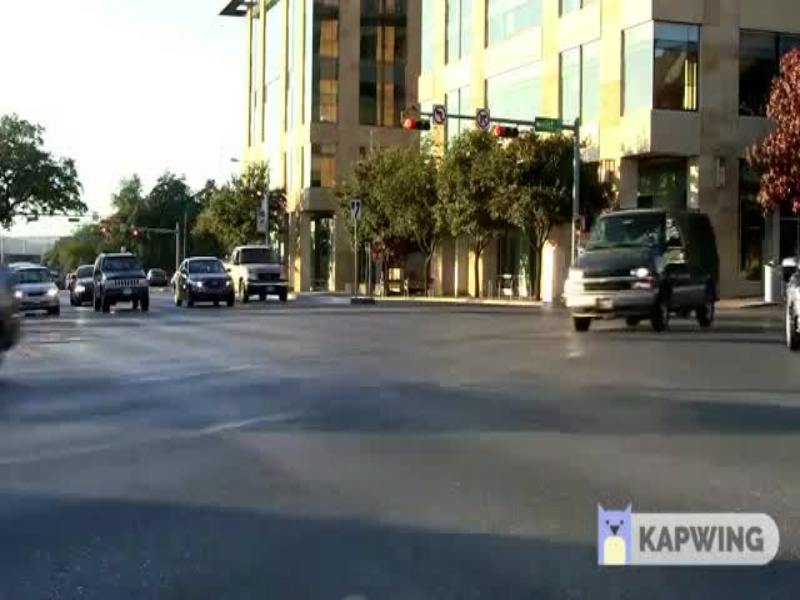car: (556, 206, 720, 348), (162, 256, 236, 311), (91, 246, 151, 313), (9, 263, 67, 321)
